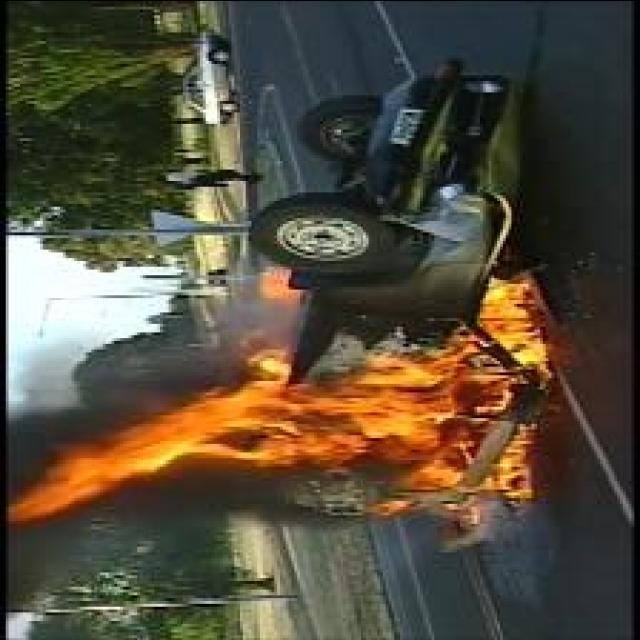Fire: (10, 276, 547, 524), (260, 267, 312, 299)
